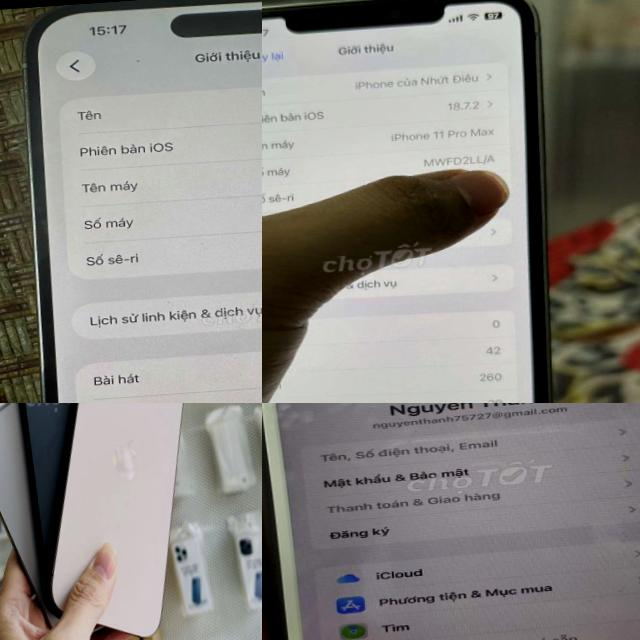gen_11: (262, 0, 595, 403)
gen_14: (0, 0, 262, 403)
gen_16: (28, 403, 210, 640)
gen_7_8: (262, 403, 640, 640)
